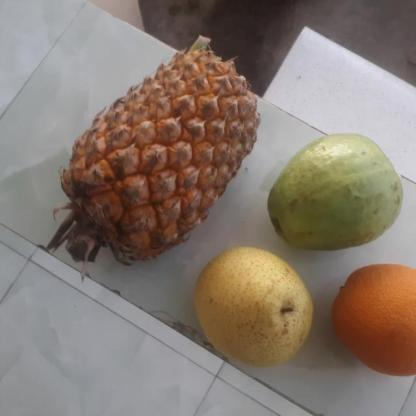guava: (264, 135, 402, 249)
orange: (330, 259, 416, 381)
pear: (185, 245, 315, 367)
pineapple: (61, 55, 255, 268)
